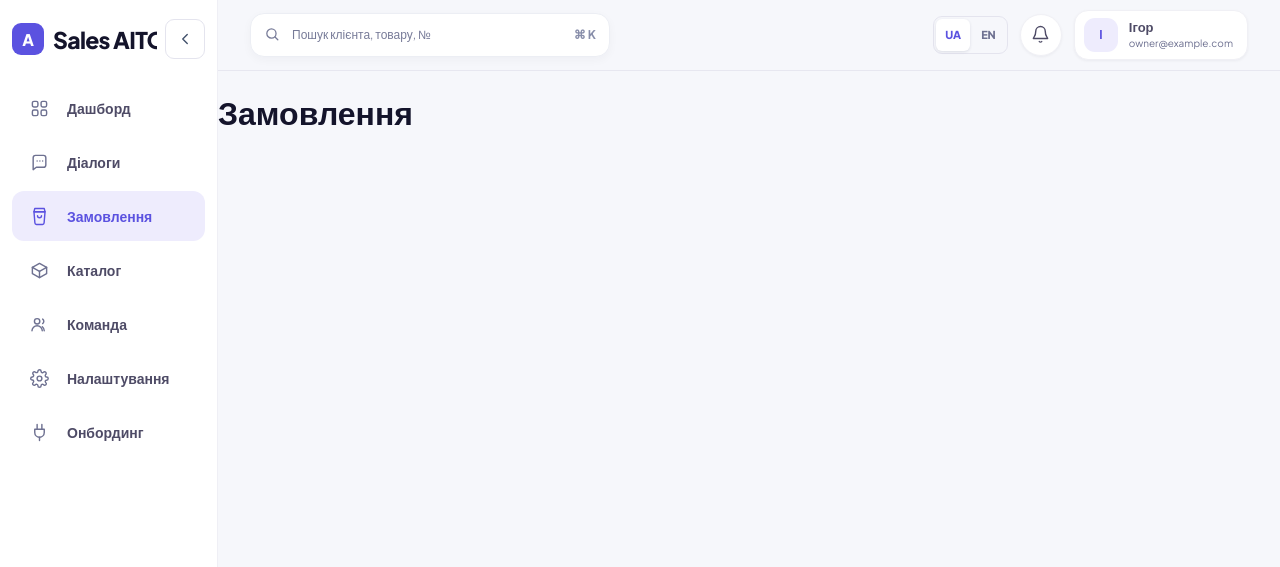
AuthenticatedShell › starts expanded and persists a desktop collapse preference
Click the button named "Згорнути меню" at (185, 39), box [165, 19, 205, 59]
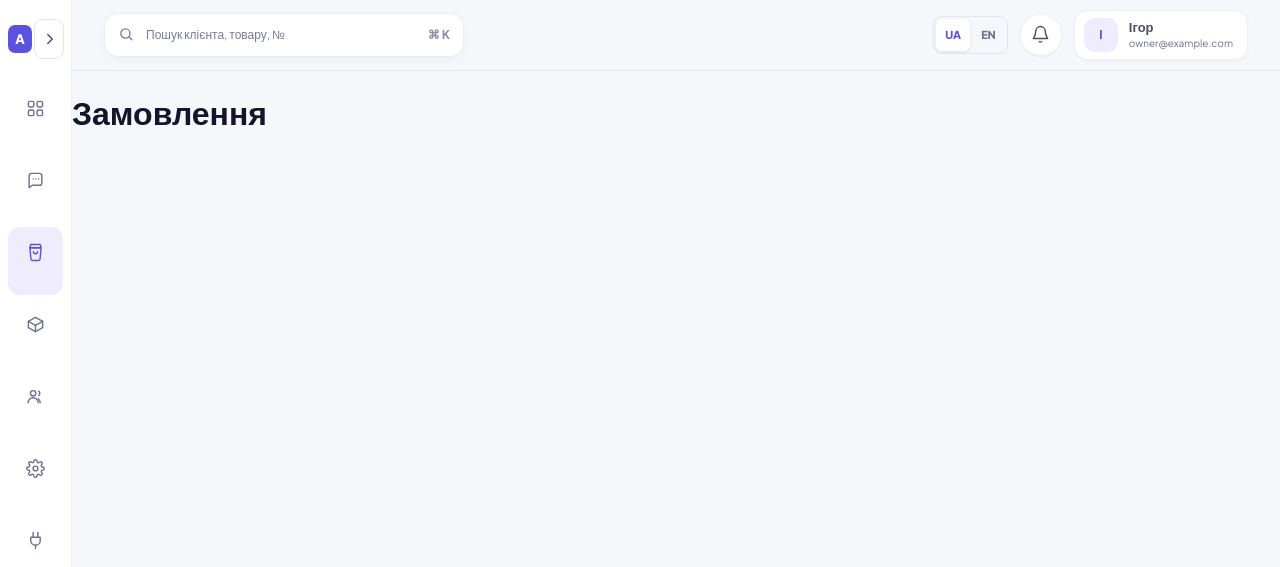
Check: the button named "Розгорнути меню" is collapsed, box [34, 19, 64, 59]
